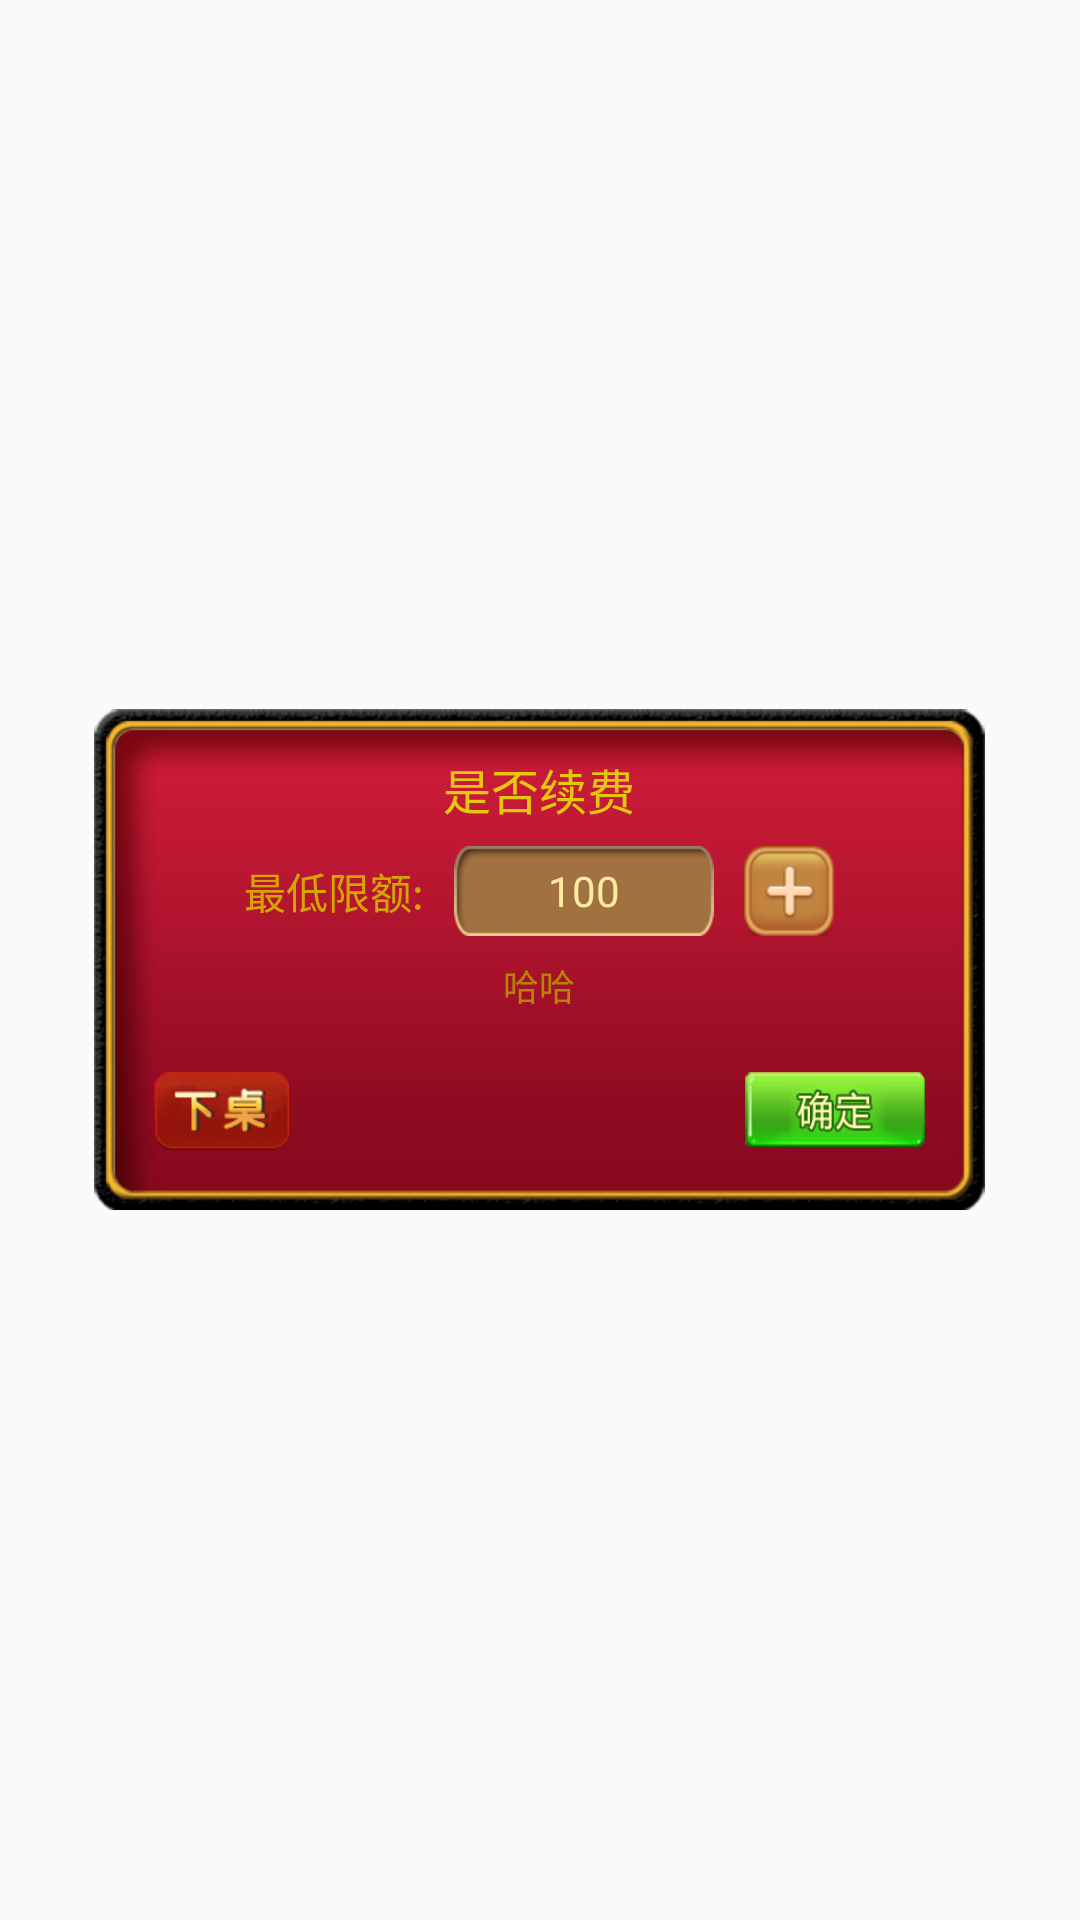

Named icons in this screenshot (1080w x 1920h) and their centers, (x,y):
add: (789,891)
